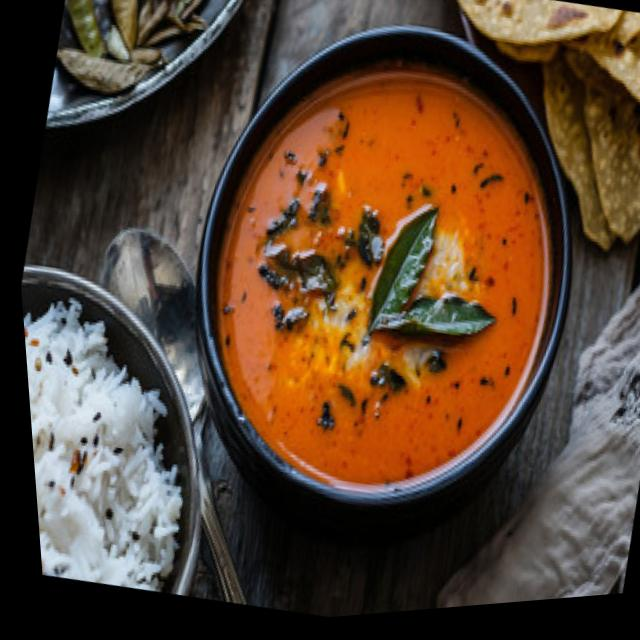RICE: (22, 294, 183, 589)
SAMBAR: (216, 57, 553, 494)
